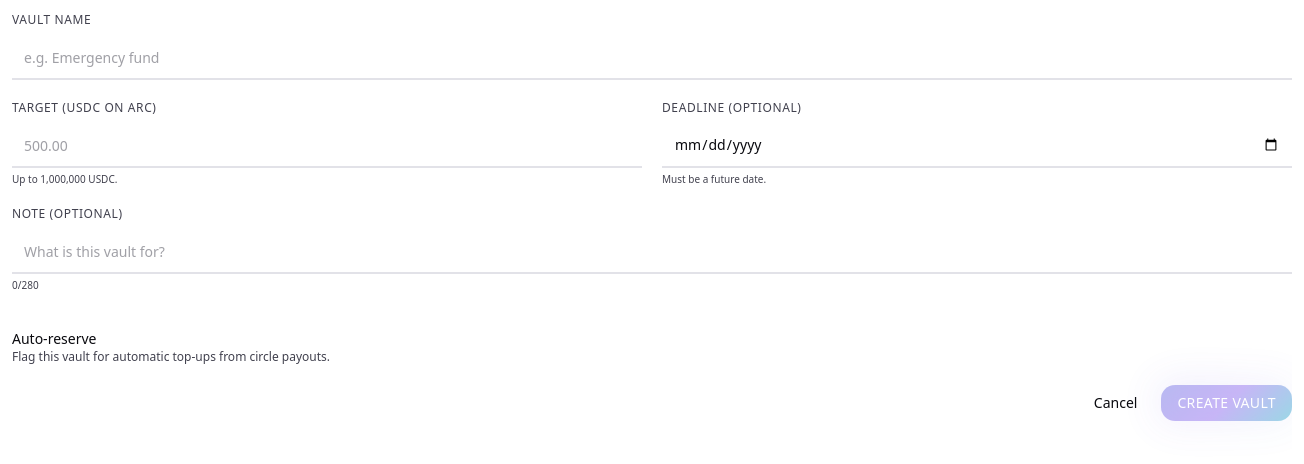
Test case: GoalForm — inline validation › shows a name error for short names
The width and height of the screenshot is (1304, 464).
Type "AB" into the field with placeholder "e.g. Emergency fund" at (652, 58), box top-left (12, 36), bottom-right (1292, 80)
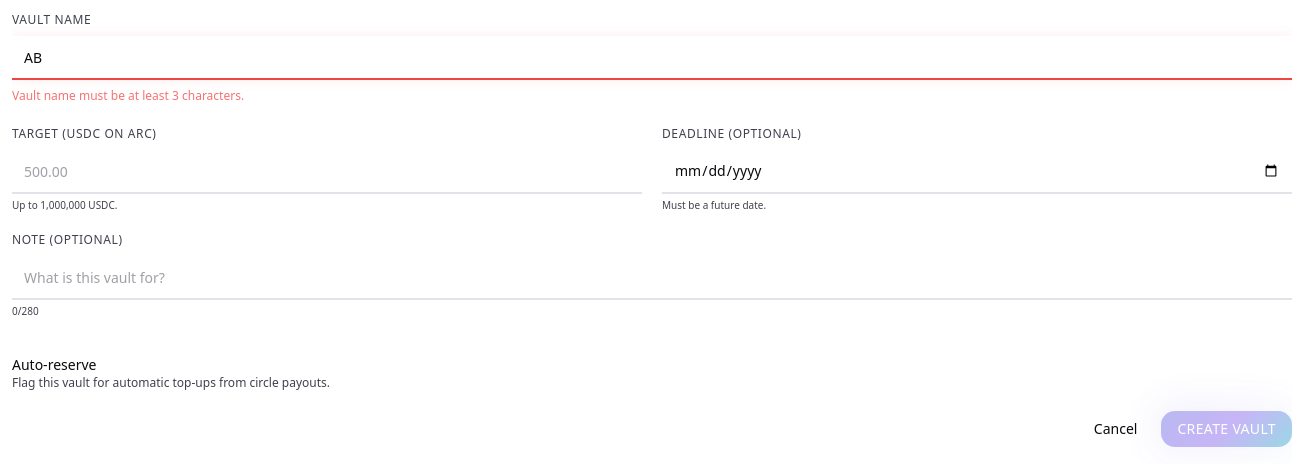
Result: the text "Vault name must be at least 3 characters." is shown at top-left (12, 87), bottom-right (244, 104)
